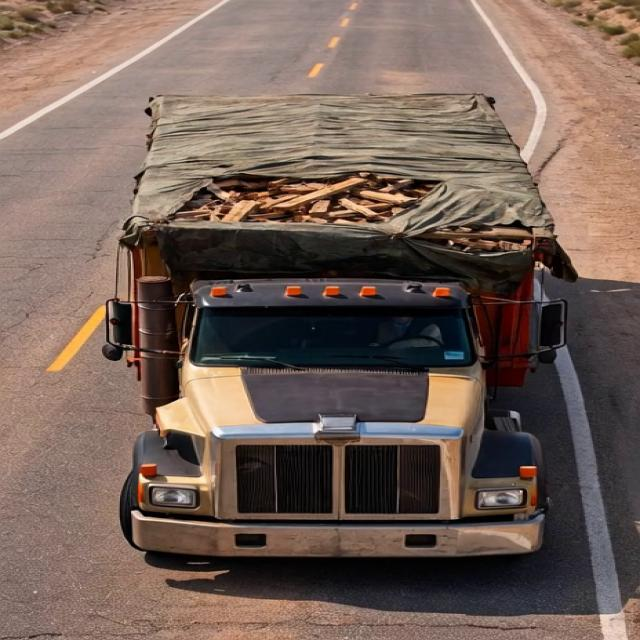Box: (115, 89, 567, 271)
Truck: (87, 60, 573, 562)
